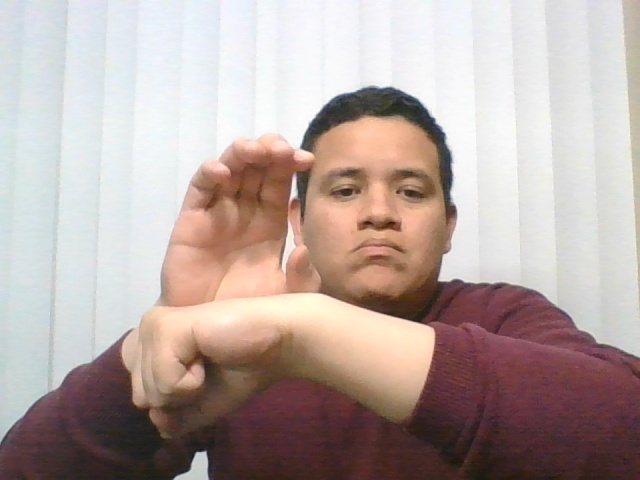Church: (110, 123, 340, 453)
